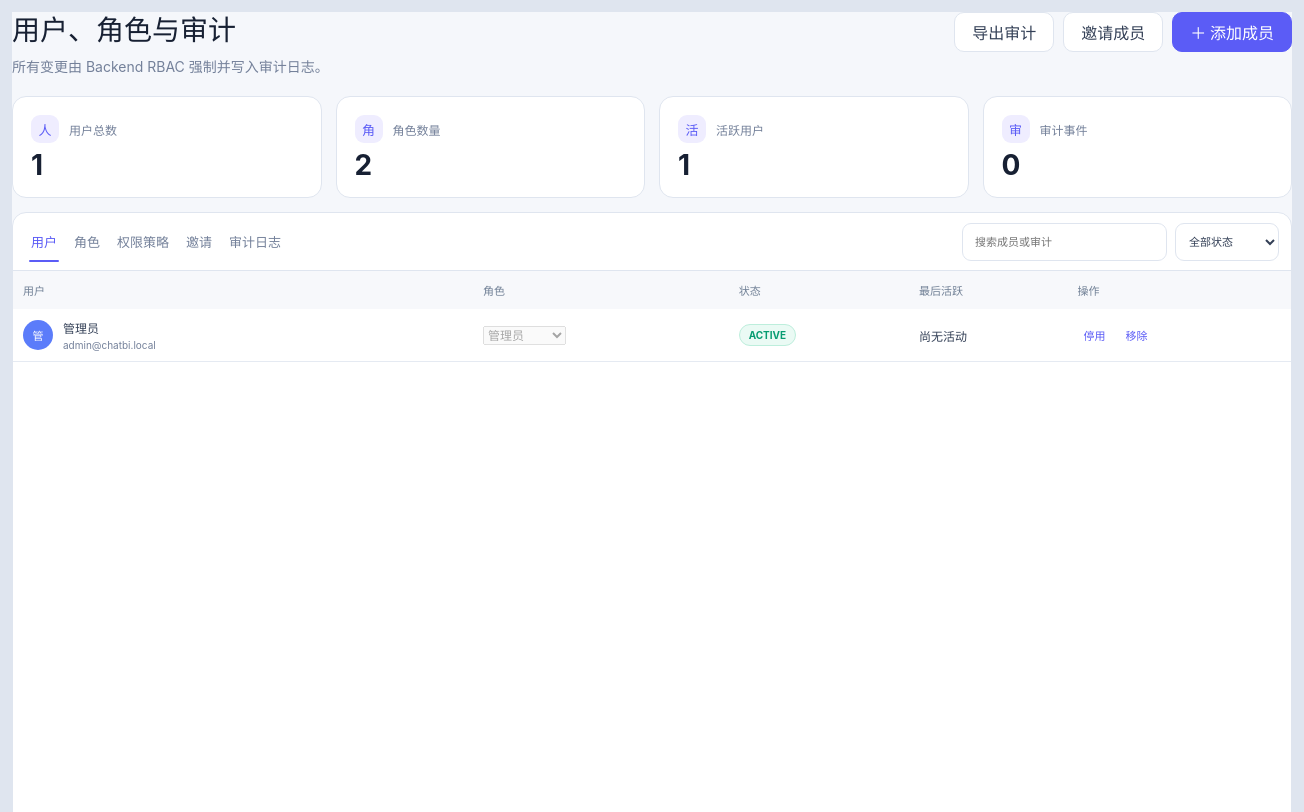
Test: 系统设置高保真页面 › 兼容尚未返回资源授权字段的旧 Backend 响应
Click the tab "权限策略".
click(143, 242)  # box [115,222,171,261]
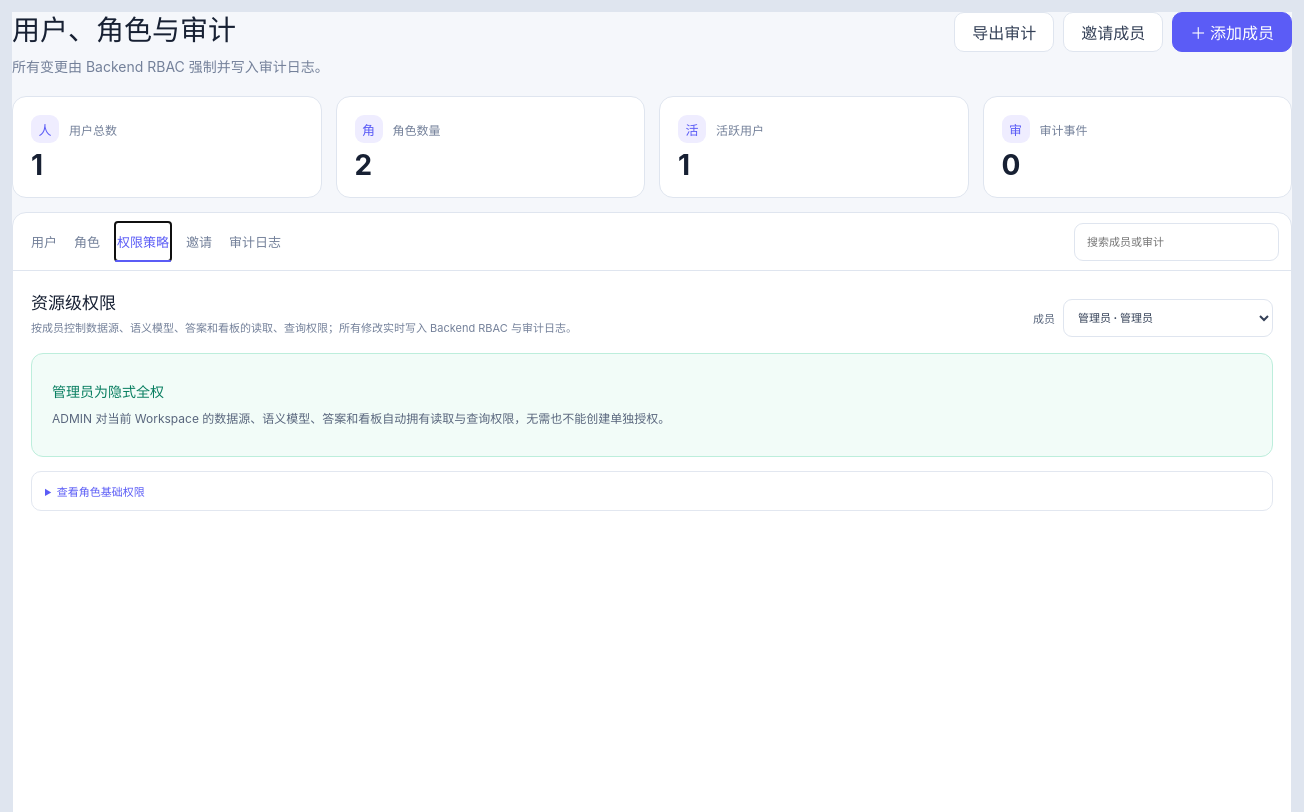
Now the text "管理员为隐式全权" is shown, box [52,383,164,400]
